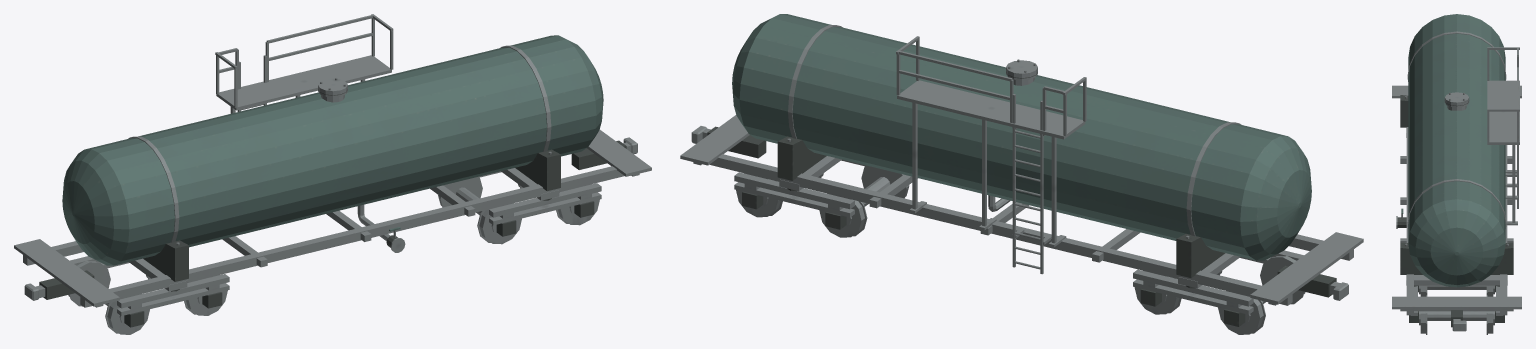
File: rail_tank_wagon_plain.glb
The picture shows the model from 3 angles, left to right: view 1: azimuth 30°, elevation 25°; view 2: azimuth 150°, elevation 25°; view 3: azimuth 270°, elevation 25°; orthographic projection. The views are drawn at different scales.
Visible parts, largest first — view 1: RailTankWagonPlain; view 2: RailTankWagonPlain; view 3: RailTankWagonPlain.
Part boxes in pixels (x1=…): RailTankWagonPlain: x1=14, y1=14, x2=651, y2=334; RailTankWagonPlain: x1=680, y1=14, x2=1363, y2=334; RailTankWagonPlain: x1=1392, y1=14, x2=1521, y2=334.
Size of what is drawn, in the model's own units: 14 by 4.5 by 3.2.
Materials: 1 (1 with a texture image).
